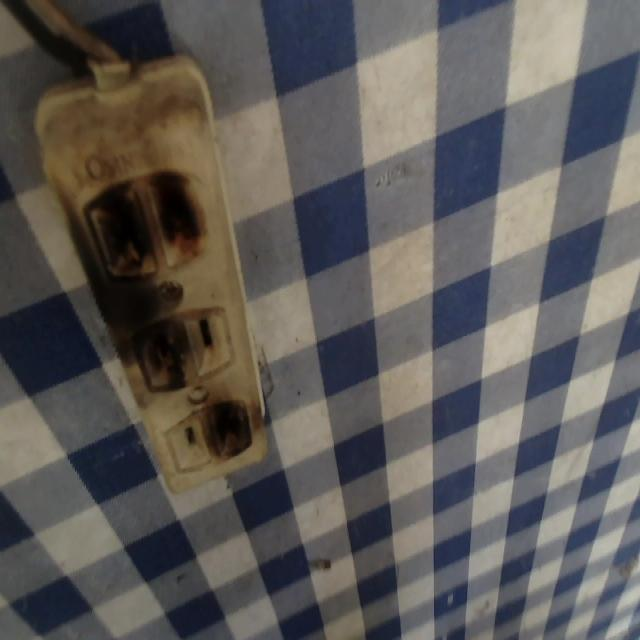-: (61, 164, 223, 284), (119, 304, 195, 405), (195, 384, 259, 472)
